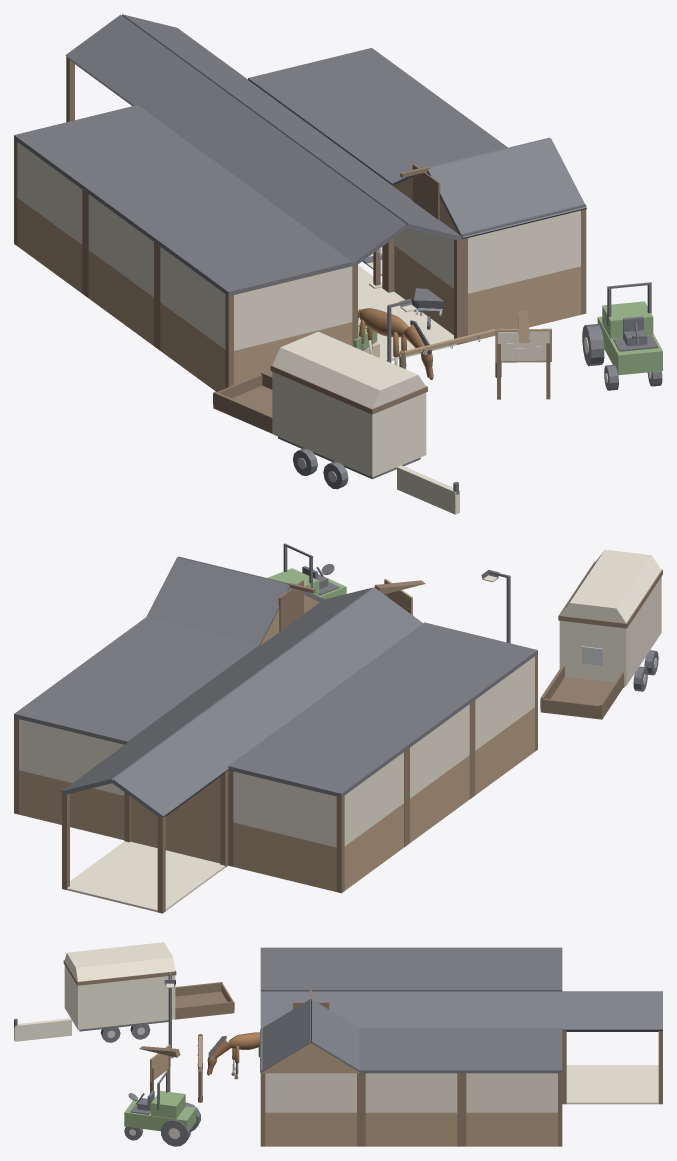
File: stable-yard.glb
The picture shows the model from 3 angles, top to bottom: view 1: azimuth 30°, elevation 25°; view 2: azimuth 150°, elevation 25°; view 3: azimuth 270°, elevation 25°; orthographic projection. The views are drawn at different scales.
Parts seen in each view (by area): view 1: 022-horse-trailer/0, 006-tack-room-bay/2, 009-hay-loft-end/3, 006-tack-room-bay/3, 005-stall-bay-door/3, 004-stall-bay/3, 007-stall-bay/3, 009-hay-loft-end/2, 003-aisle-straight/2, 008-wash-bay/3, 000-aisle-end/2, 009-hay-loft-end/1 (+22 smaller); view 2: 022-horse-trailer/0, 004-stall-bay/2, 009-hay-loft-end/3, 004-stall-bay/3, 007-stall-bay/3, 005-stall-bay-door/3, 006-tack-room-bay/3, 008-wash-bay/3, 004-stall-bay/1, 000-aisle-end/2, 001-aisle-straight/2, 002-aisle-straight/2 (+18 smaller); view 3: 022-horse-trailer/0, 009-hay-loft-end/1, 008-wash-bay/3, 007-stall-bay/3, 009-hay-loft-end/3, 006-tack-room-bay/3, 005-stall-bay-door/3, 004-stall-bay/3, 000-aisle-end/2, 001-aisle-straight/2, 002-aisle-straight/2, 008-wash-bay/2 (+20 smaller).
Part boxes in pixels (bbox=[...]): 022-horse-trailer/0: bbox=[272, 331, 459, 514]; 006-tack-room-bay/2: bbox=[160, 247, 352, 350]; 009-hay-loft-end/3: bbox=[391, 137, 586, 239]; 006-tack-room-bay/3: bbox=[157, 209, 352, 296]; 005-stall-bay-door/3: bbox=[85, 157, 280, 243]; 004-stall-bay/3: bbox=[14, 105, 208, 191]; 007-stall-bay/3: bbox=[248, 48, 442, 131]; 009-hay-loft-end/2: bbox=[394, 210, 580, 293]; 003-aisle-straight/2: bbox=[282, 171, 462, 265]; 008-wash-bay/3: bbox=[319, 100, 507, 184]; 000-aisle-end/2: bbox=[65, 14, 247, 105]; 009-hay-loft-end/1: bbox=[393, 172, 580, 342]; 022-horse-trailer/0: bbox=[559, 549, 661, 685]; 004-stall-bay/2: bbox=[233, 752, 403, 847]; 009-hay-loft-end/3: bbox=[145, 556, 323, 646]; 004-stall-bay/3: bbox=[228, 718, 406, 797]; 007-stall-bay/3: bbox=[14, 666, 192, 744]; 005-stall-bay-door/3: bbox=[294, 670, 472, 749]; 006-tack-room-bay/3: bbox=[359, 622, 537, 701]; 008-wash-bay/3: bbox=[80, 618, 258, 694]; 004-stall-bay/1: bbox=[233, 803, 403, 891]; 000-aisle-end/2: bbox=[61, 731, 228, 817]; 001-aisle-straight/2: bbox=[128, 683, 291, 767]; 002-aisle-straight/2: bbox=[193, 635, 357, 718]; 022-horse-trailer/0: bbox=[14, 942, 175, 1041]; 009-hay-loft-end/1: bbox=[261, 1043, 360, 1146]; 008-wash-bay/3: bbox=[361, 1027, 461, 1073]; 007-stall-bay/3: bbox=[462, 1027, 562, 1073]; 009-hay-loft-end/3: bbox=[260, 999, 361, 1074]; 006-tack-room-bay/3: bbox=[260, 947, 361, 991]; 005-stall-bay-door/3: bbox=[361, 947, 461, 991]; 004-stall-bay/3: bbox=[462, 947, 562, 991]; 000-aisle-end/2: bbox=[562, 991, 662, 1031]; 001-aisle-straight/2: bbox=[462, 991, 562, 1027]; 002-aisle-straight/2: bbox=[361, 991, 461, 1027]; 008-wash-bay/2: bbox=[365, 1073, 457, 1112].
Size of the model in its own units: 11.8 by 4.17 by 23.24.
